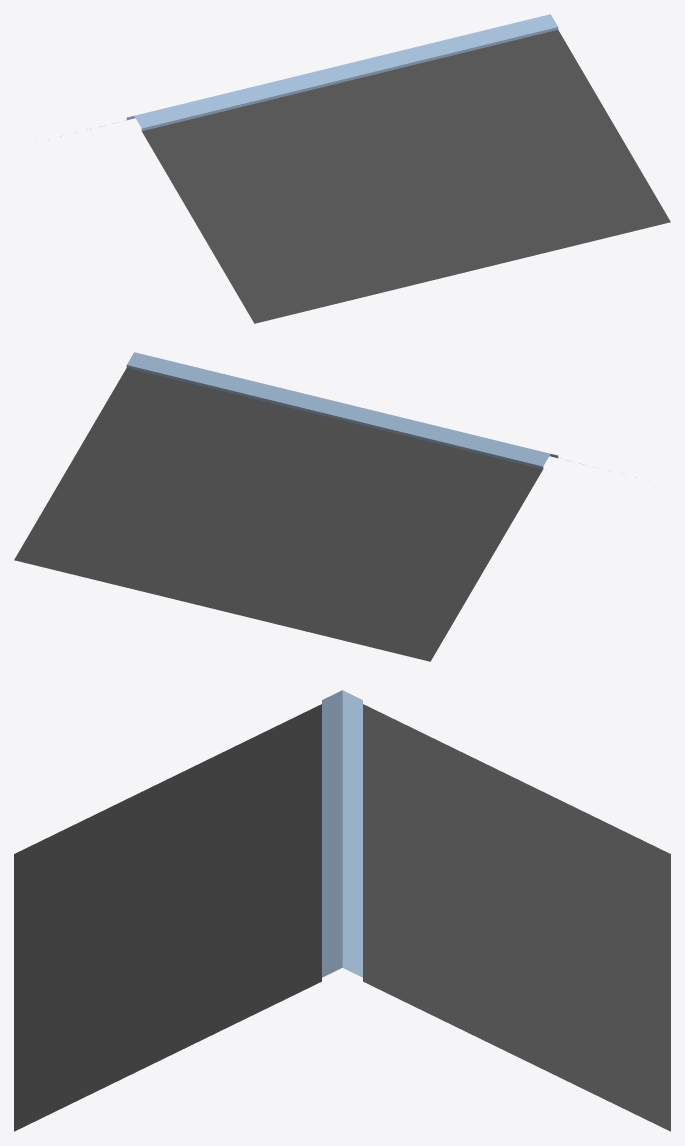
Rendered from House01_Roof_Angled_Short_01.fbx.
The picture shows the model from 3 angles, top to bottom: view 1: azimuth 30°, elevation 25°; view 2: azimuth 150°, elevation 25°; view 3: azimuth 270°, elevation 25°; orthographic projection. The views are drawn at different scales.
Visible parts, largest first — view 1: SM_Bld_House_Roof_Angled_Cap_Short_01; view 2: SM_Bld_House_Roof_Angled_Cap_Short_01; view 3: SM_Bld_House_Roof_Angled_Cap_Short_01.
Part boxes in pixels (x1,y1,x2,y2): SM_Bld_House_Roof_Angled_Cap_Short_01: [126, 14, 670, 323]; SM_Bld_House_Roof_Angled_Cap_Short_01: [14, 352, 558, 661]; SM_Bld_House_Roof_Angled_Cap_Short_01: [14, 690, 670, 1131].
Bounding box in the file's own units: 250 × 68.86 × 250.
